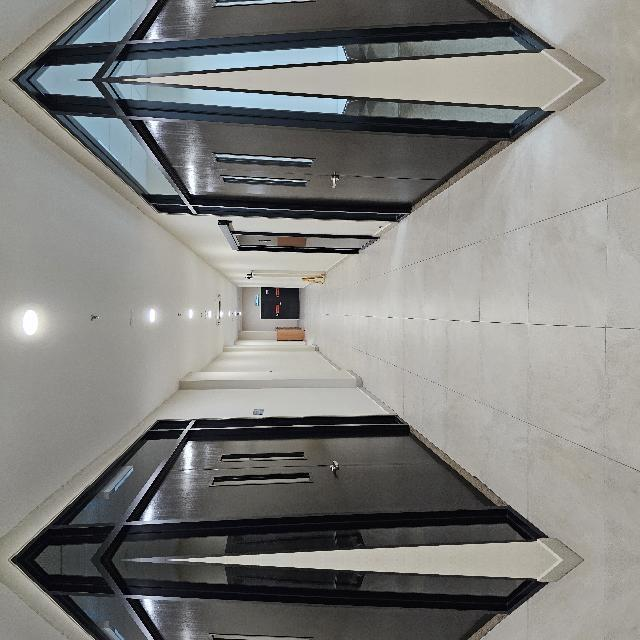door: (348, 214, 454, 586), (33, 205, 139, 571), (347, 534, 454, 640), (33, 549, 139, 640), (304, 308, 328, 460), (239, 336, 275, 382)
obstacle: (217, 351, 235, 385), (274, 380, 286, 406)
